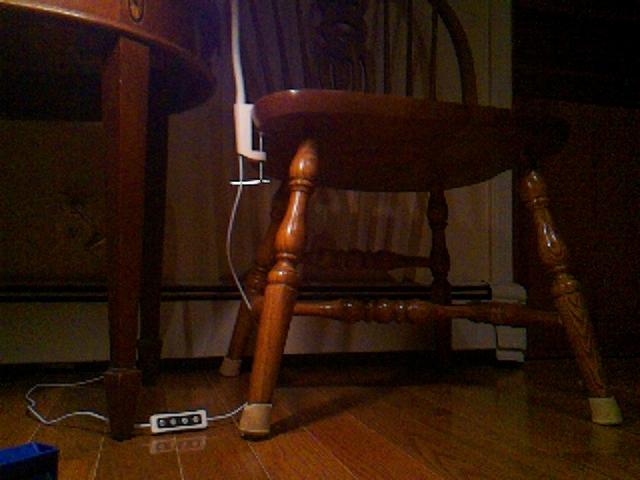blue: (1, 439, 61, 480)
